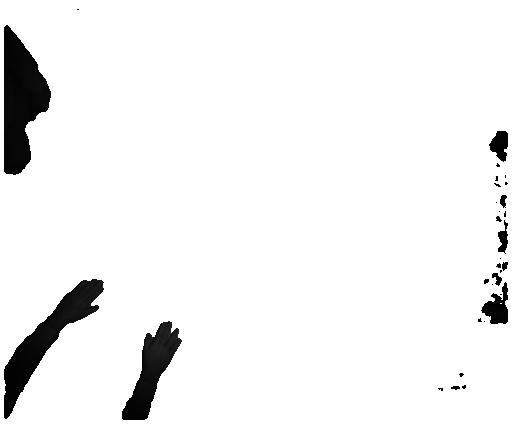hand: (140, 320, 183, 375), (59, 272, 103, 323)
